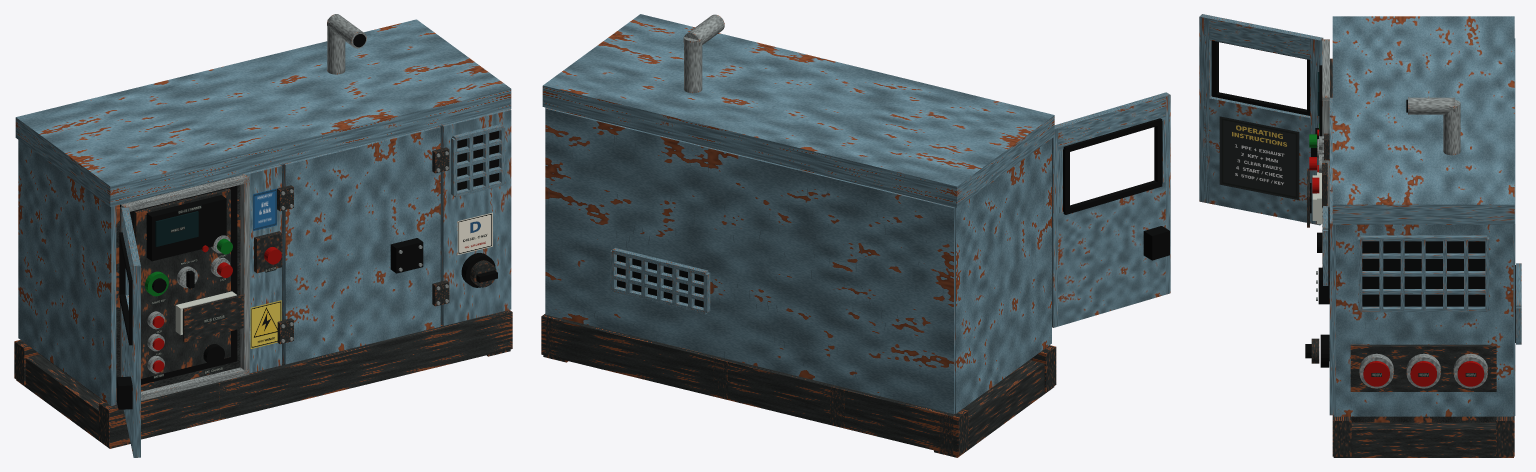
The model's file is Generator_Open.obj.
3 views of the same model, side by side, from view 1: azimuth 30°, elevation 25°; view 2: azimuth 150°, elevation 25°; view 3: azimuth 270°, elevation 25° (orthographic). The views are drawn at different scales.
Parts seen in each view (by area): view 1: Roof, FrontPanel0.36, LeftSide, SkidRail0.52, FrontPanel1.17, ControlFascia, FrontPanel-0.35, SkidFoot-1.34, DisplayBezel, InnerEngine, BreakerCover, PanelRecess (+18 smaller); view 2: RearPanel, Roof, LeftSide, SkidRail-0.52, DoorBottom, SkidFoot-1.34, DoorTop, DoorLeft, DoorRight, RearVentInside, ExhaustUpright, WindowEdge0.095 (+6 smaller); view 3: Roof, RightSide, DoorInstructions, DoorBottom, SideVentInside, SkidFoot1.34, SocketPlate, DoorTop, DoorRight, FrontPanel1.17, DoorLeft, InnerEngine (+27 smaller).
Part boxes in pixels (bbox=[...]): Roof: bbox=[15, 19, 511, 206]; FrontPanel0.36: bbox=[282, 126, 440, 364]; LeftSide: bbox=[18, 140, 116, 405]; SkidRail0.52: bbox=[99, 310, 512, 447]; FrontPanel1.17: bbox=[440, 109, 511, 325]; ControlFascia: bbox=[134, 188, 230, 378]; FrontPanel-0.35: bbox=[242, 165, 281, 373]; SkidFoot-1.34: bbox=[16, 354, 130, 448]; DisplayBezel: bbox=[146, 195, 226, 261]; InnerEngine: bbox=[39, 165, 282, 401]; BreakerCover: bbox=[183, 294, 243, 342]; PanelRecess: bbox=[120, 177, 237, 384]; RearPanel: bbox=[545, 108, 954, 414]; Roof: bbox=[542, 14, 1054, 207]; LeftSide: bbox=[955, 139, 1051, 413]; SkidRail-0.52: bbox=[541, 314, 968, 456]; DoorBottom: bbox=[1058, 182, 1165, 326]; SkidFoot-1.34: bbox=[934, 360, 1054, 457]; DoorTop: bbox=[1055, 95, 1165, 150]; DoorLeft: bbox=[1052, 124, 1062, 327]; DoorRight: bbox=[1157, 92, 1170, 294]; RearVentInside: bbox=[617, 255, 703, 307]; ExhaustUpright: bbox=[684, 37, 702, 93]; WindowEdge0.095: bbox=[1063, 180, 1162, 214]; Roof: bbox=[1332, 16, 1514, 224]; RightSide: bbox=[1334, 224, 1513, 416]; DoorInstructions: bbox=[1219, 116, 1299, 200]; DoorBottom: bbox=[1204, 96, 1310, 222]; SideVentInside: bbox=[1362, 241, 1485, 306]; SkidFoot1.34: bbox=[1333, 422, 1513, 457]; SocketPlate: bbox=[1350, 344, 1496, 391]; DoorTop: bbox=[1204, 15, 1314, 59]; DoorRight: bbox=[1199, 14, 1211, 203]; FrontPanel1.17: bbox=[1329, 191, 1335, 415]; DoorLeft: bbox=[1310, 36, 1323, 225]; InnerEngine: bbox=[1351, 416, 1495, 422].
Bounding box in the file's own units: 3.31 × 2.15 × 2.05.
27 materials, 22 textured.
